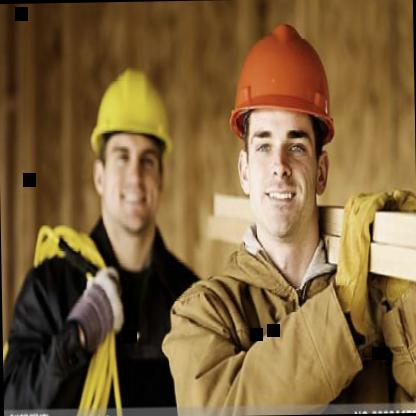helmet: (213, 9, 344, 252), (85, 52, 185, 263)
